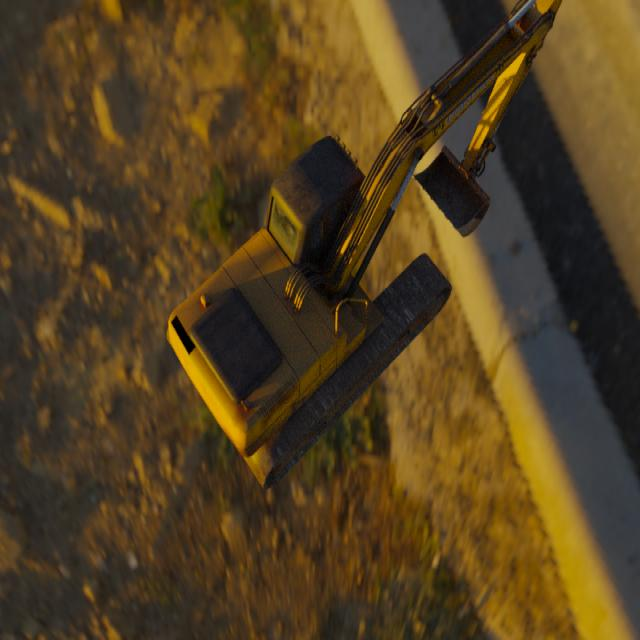excavator: (166, 0, 562, 491)
